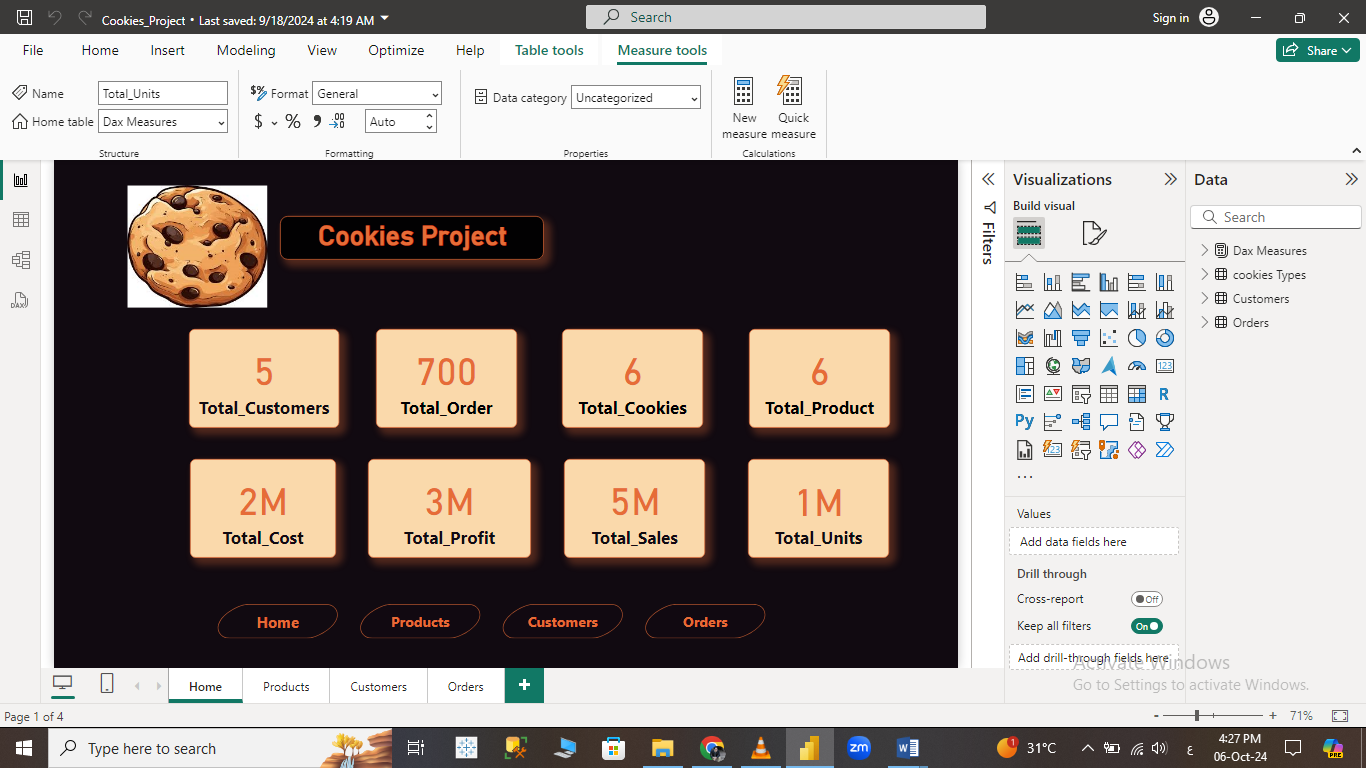

The page's visual inventory and layout, read from the dashboard file:
{"tool":"powerbi","page":{"name":"Home","canvas":[1280,720],"ordinal":0},"visuals":[{"type":"image","box":[99.2,31.2,208.3,182.8],"z":0},{"type":"textbox","title":"Cookies Project","box":[320.3,79.4,374.2,62.4],"z":1000},{"type":"card","fields":{"Values":["Dax Measures.Total_Cookies"]},"box":[720.5,239.5,199.8,140],"z":2000},{"type":"card","fields":{"Values":["Dax Measures.Total_Cost"]},"box":[192.8,423.8,206.9,140],"z":3000},{"type":"card","fields":{"Values":["Dax Measures.Total_Customers"]},"box":[191.3,239.5,212.6,140],"z":4000},{"type":"card","fields":{"Values":["Dax Measures.Total_Order"]},"box":[455.9,239.5,199.8,140],"z":5000},{"type":"card","fields":{"Values":["Dax Measures.Total_Product"]},"box":[985,239.5,199.8,140],"z":6000},{"type":"card","fields":{"Values":["Dax Measures.Total_Profit"]},"box":[445.7,423.8,231,140],"z":7000},{"type":"card","fields":{"Values":["Dax Measures.Total_Sales"]},"box":[722.8,423.8,200,140],"z":8000},{"type":"pageNavigator","box":[221.1,629.3,799.4,49.6],"z":9000},{"type":"card","fields":{"Values":["Dax Measures.Total_Units"]},"box":[983.6,423.8,199.8,140.3],"z":10000}]}

Visuals, with their boxes on the page's 1280x720 design canvas (x1, y1, x2, y2). These are canvas units, not pixel positions in the 1366x768 screenshot, which may show the page scaled, cropped or inside an application window:
image: 99,31,308,214
"Cookies Project" textbox: 320,79,694,142
card - Dax Measures.Total_Cookies: 720,240,920,380
card - Dax Measures.Total_Cost: 193,424,400,564
card - Dax Measures.Total_Customers: 191,240,404,380
card - Dax Measures.Total_Order: 456,240,656,380
card - Dax Measures.Total_Product: 985,240,1185,380
card - Dax Measures.Total_Profit: 446,424,677,564
card - Dax Measures.Total_Sales: 723,424,923,564
pageNavigator: 221,629,1020,679
card - Dax Measures.Total_Units: 984,424,1183,564
